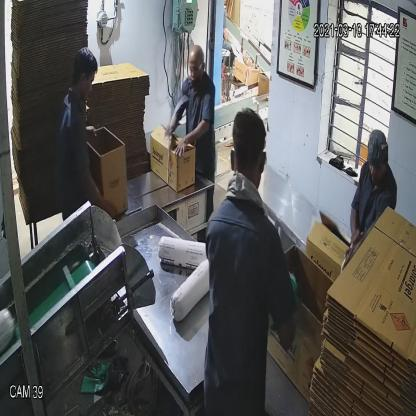no_glove: (80, 168, 121, 230), (174, 122, 209, 161), (156, 101, 184, 140)
